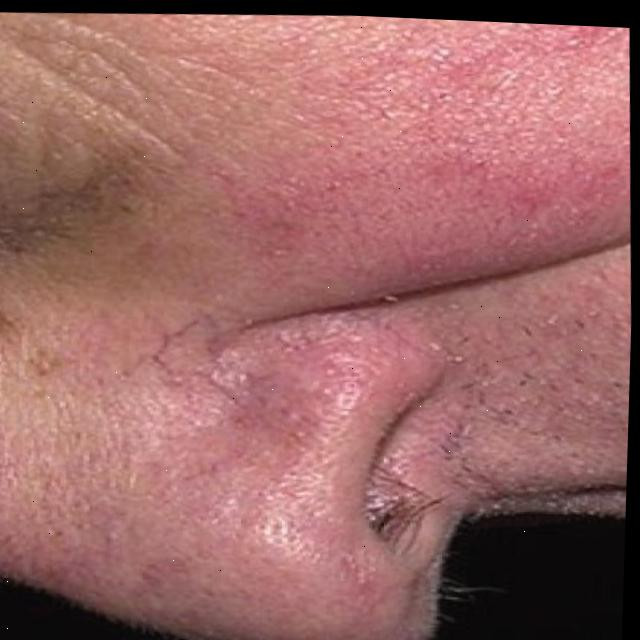Rosacea: (232, 11, 637, 300)
